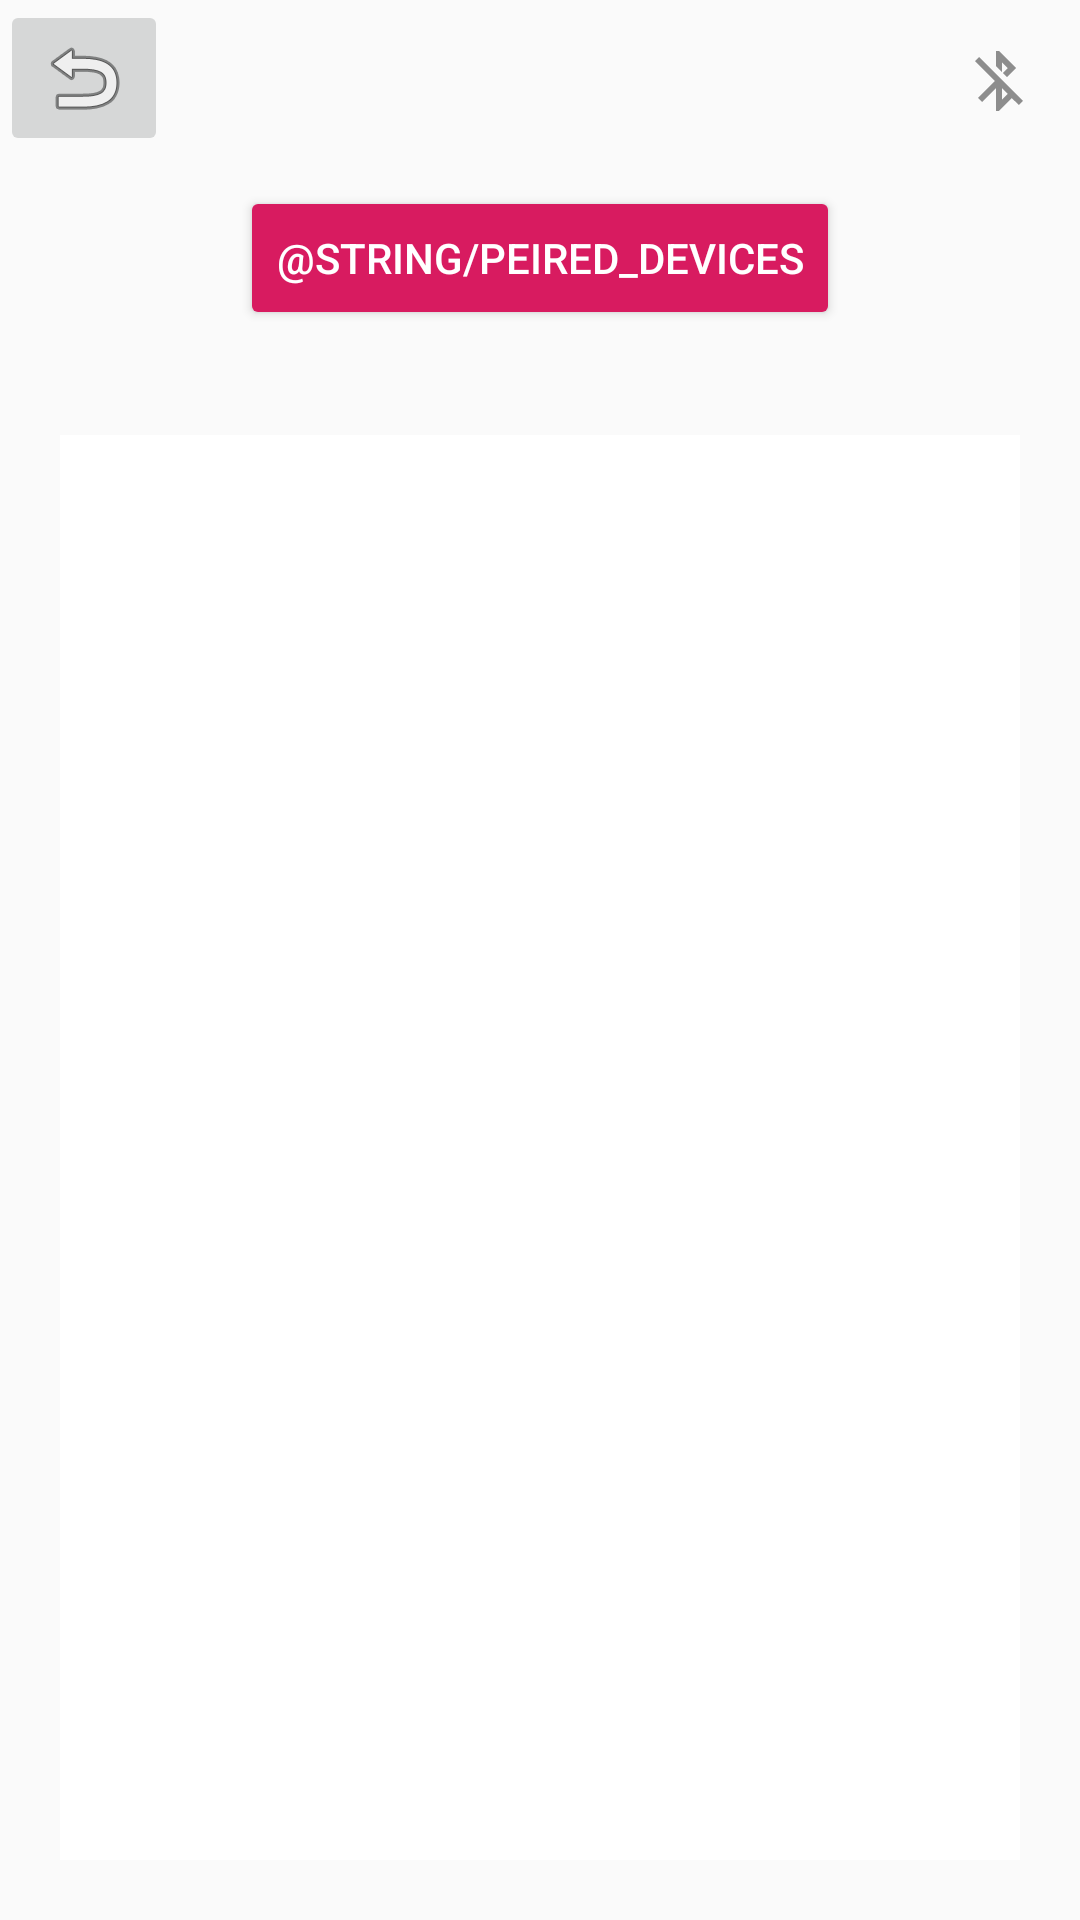

Icon bounding boxes for this 1080w x 1920h phone screenshot, format BBox(x1, y1, x2, y2):
Back: BBox(12, 18, 156, 138)
